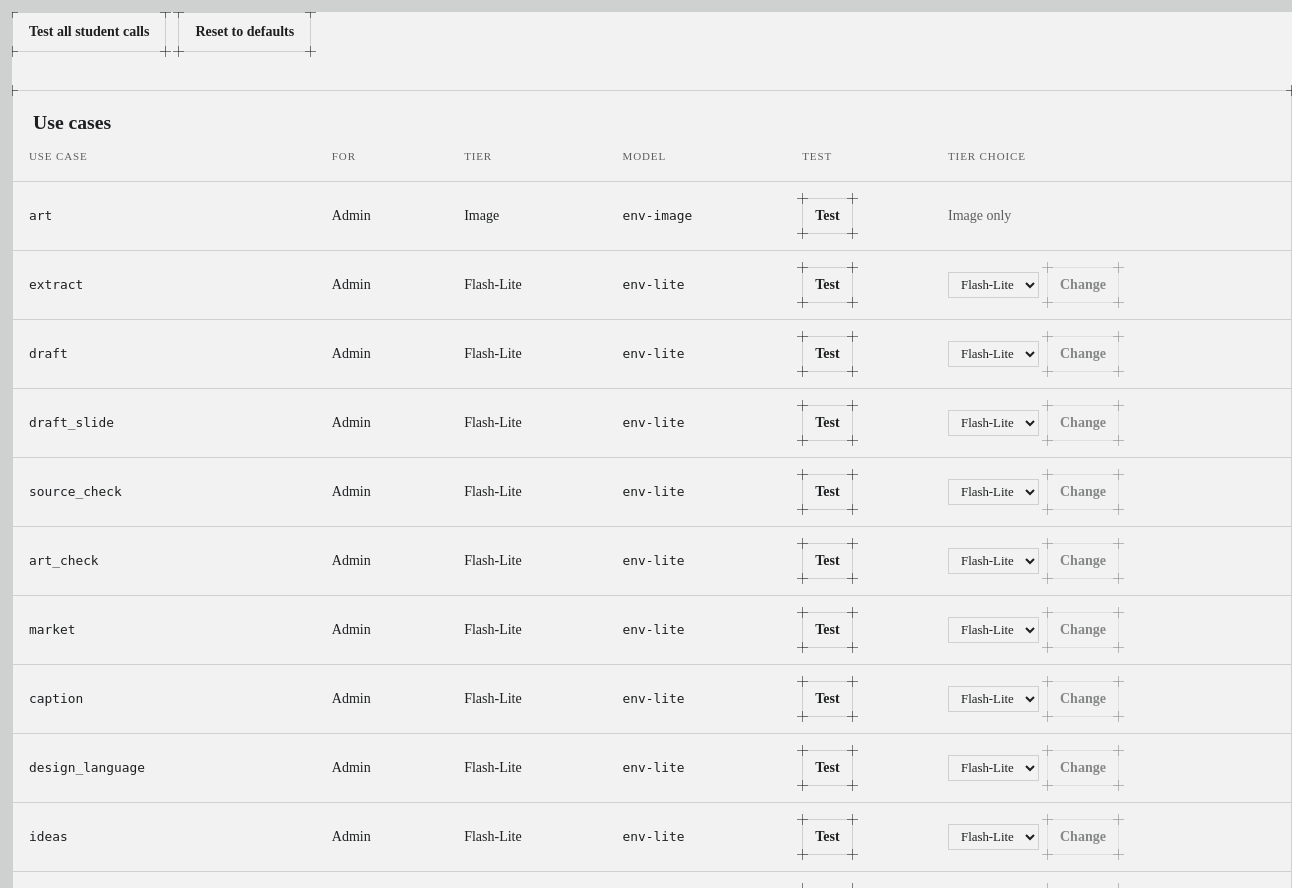
Test: shows a failed Test with its model, time and error
Click the button "Test" at (828, 354), box x1=802 y1=336 x2=853 y2=372
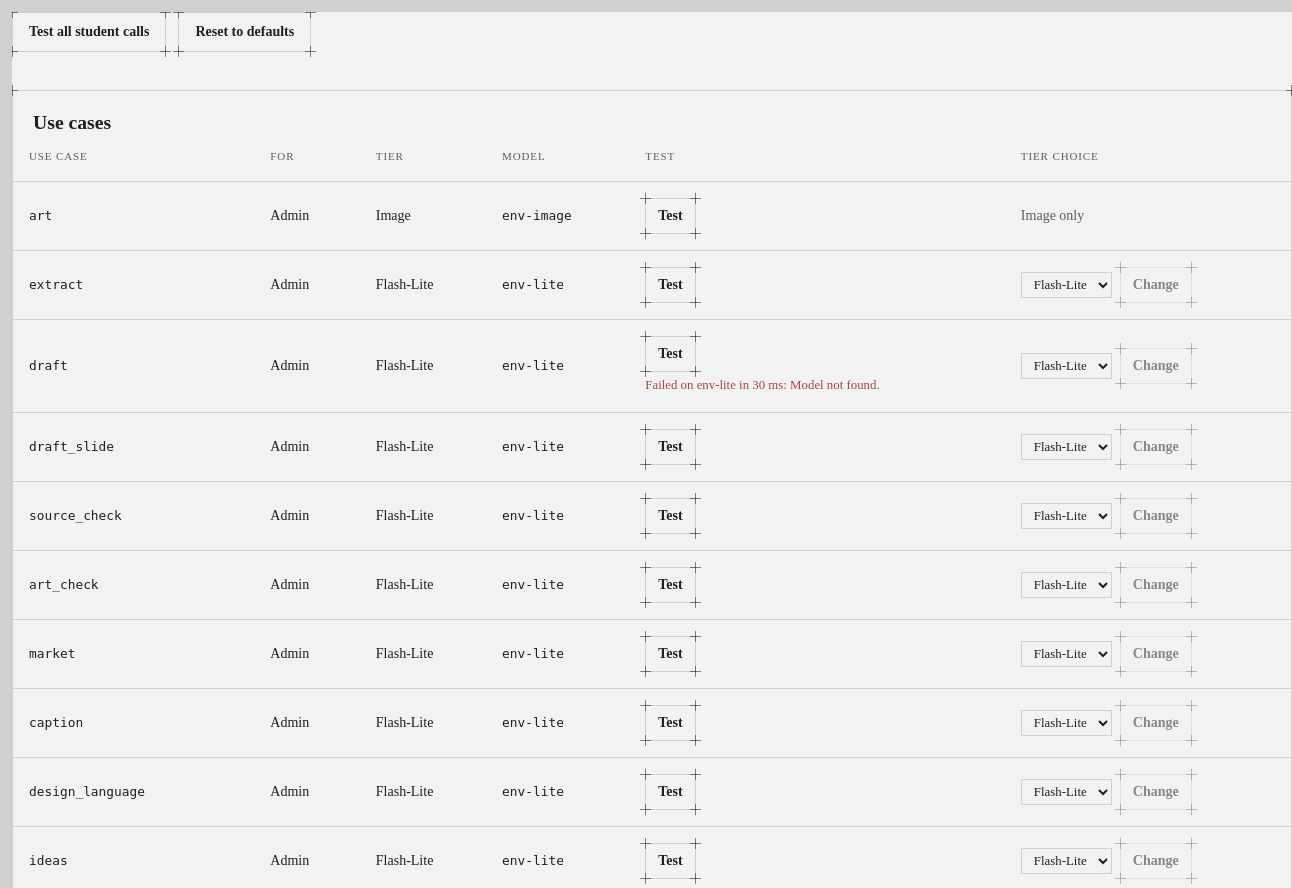
Result: the text "Failed on env-lite in 30 ms: Model not found." is shown at x1=645 y1=378 x2=880 y2=392
